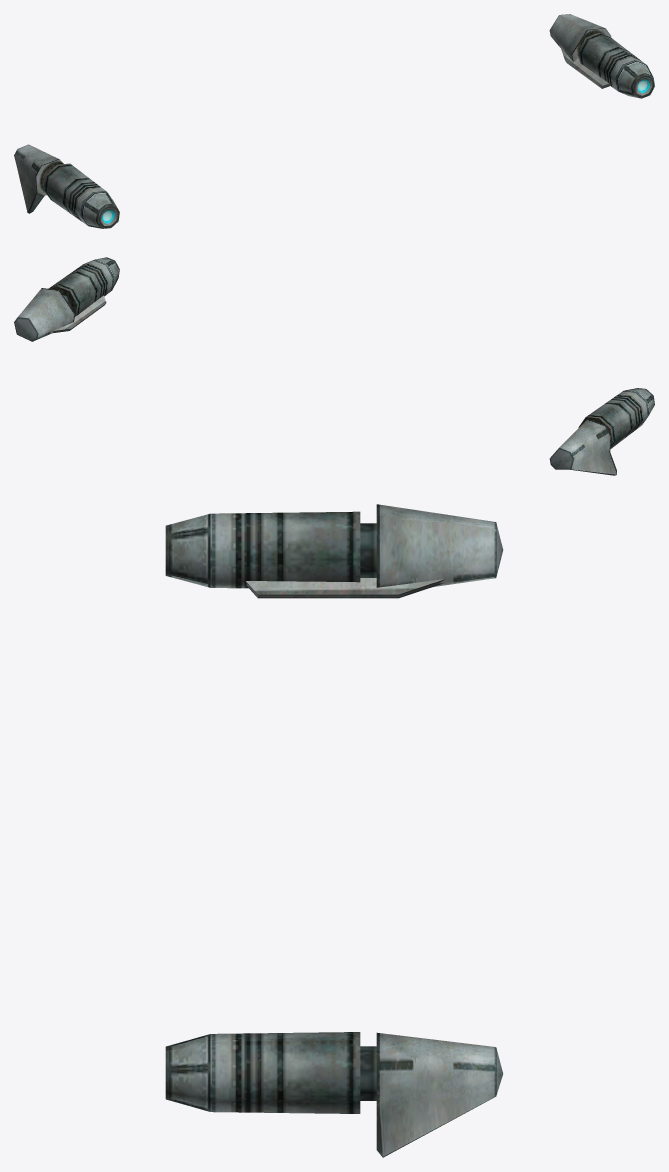
File: black_sun_fighter_medium_weapon2_s02_l0.fbx
The picture shows the model from 3 angles, top to bottom: view 1: azimuth 30°, elevation 25°; view 2: azimuth 150°, elevation 25°; view 3: azimuth 270°, elevation 25°; orthographic projection. The views are drawn at different scales.
Parts seen in each view (by area): view 1: mesh_node; view 2: mesh_node; view 3: mesh_node.
Boxes of the visible parts, box(x1,y1,x2,y2) form: mesh_node: box(14, 14, 654, 228); mesh_node: box(14, 257, 654, 475); mesh_node: box(165, 504, 503, 1157).
Size of the model in its own units: 7.75 by 0.611 by 1.92.
Materials: 1 (1 with a texture image).
